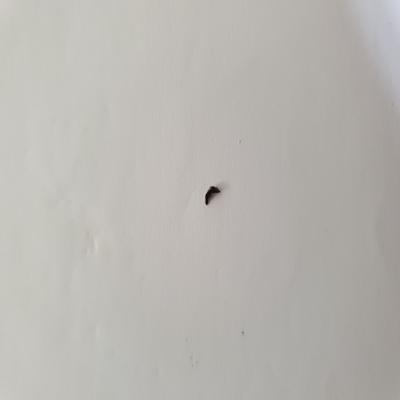plastic: (202, 180, 223, 208)
